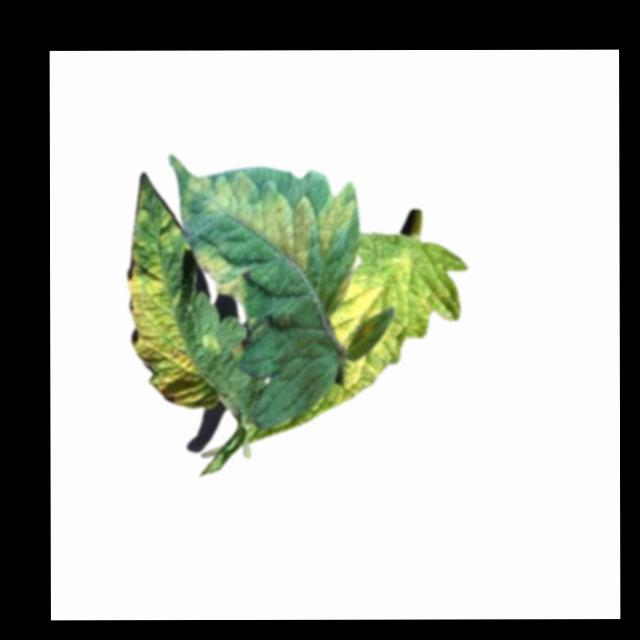Leaf_Mold: (329, 249, 471, 415), (126, 170, 215, 406), (179, 170, 354, 267), (194, 247, 256, 310)
